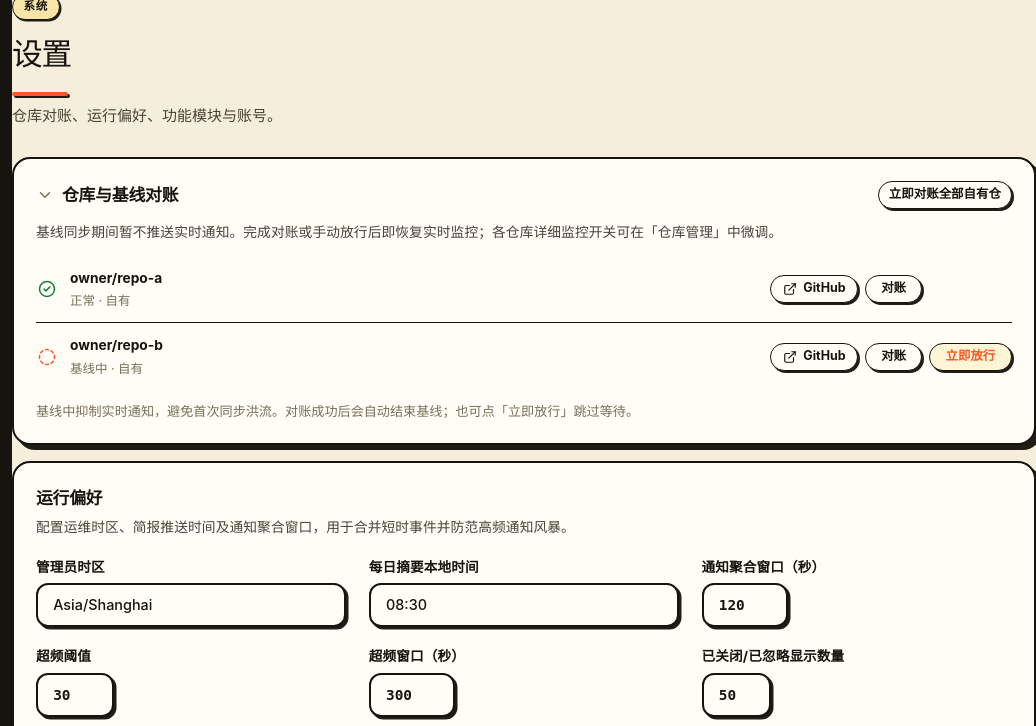
Test: 设置页 › 时区输入失焦时即时校验：非法值提示、合法值静默
非法时区：失焦后提示，保存后后端仍会强校验。
Replace the text in the field labelled "管理员时区" with "Mars/Olympus" at (191, 605), box [36,583,346,627]
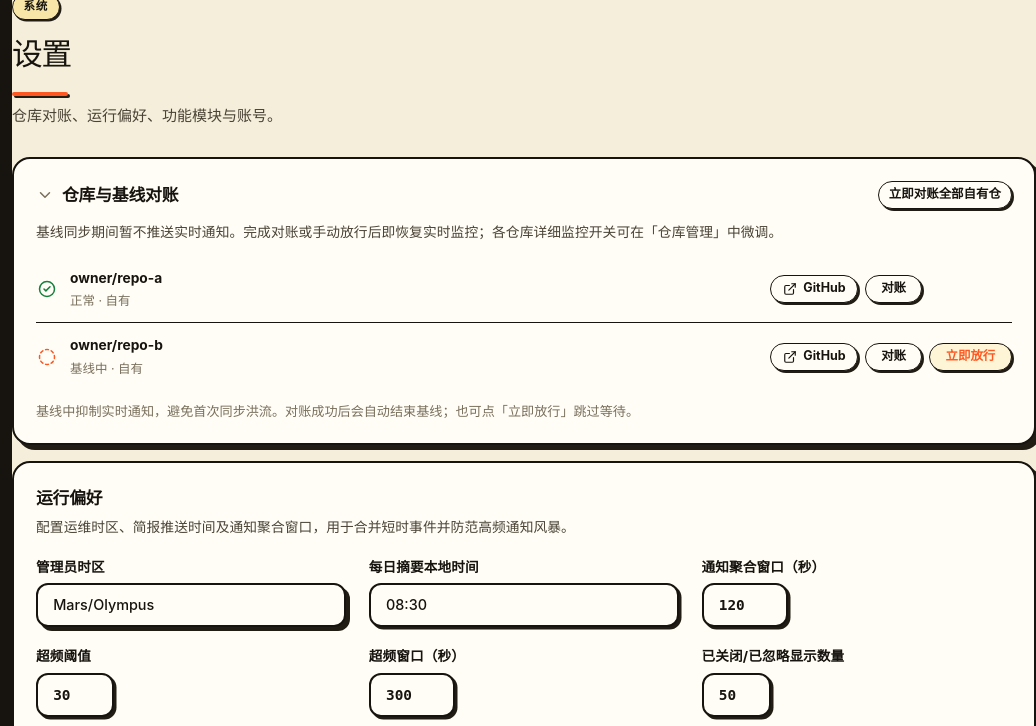
Press Tab
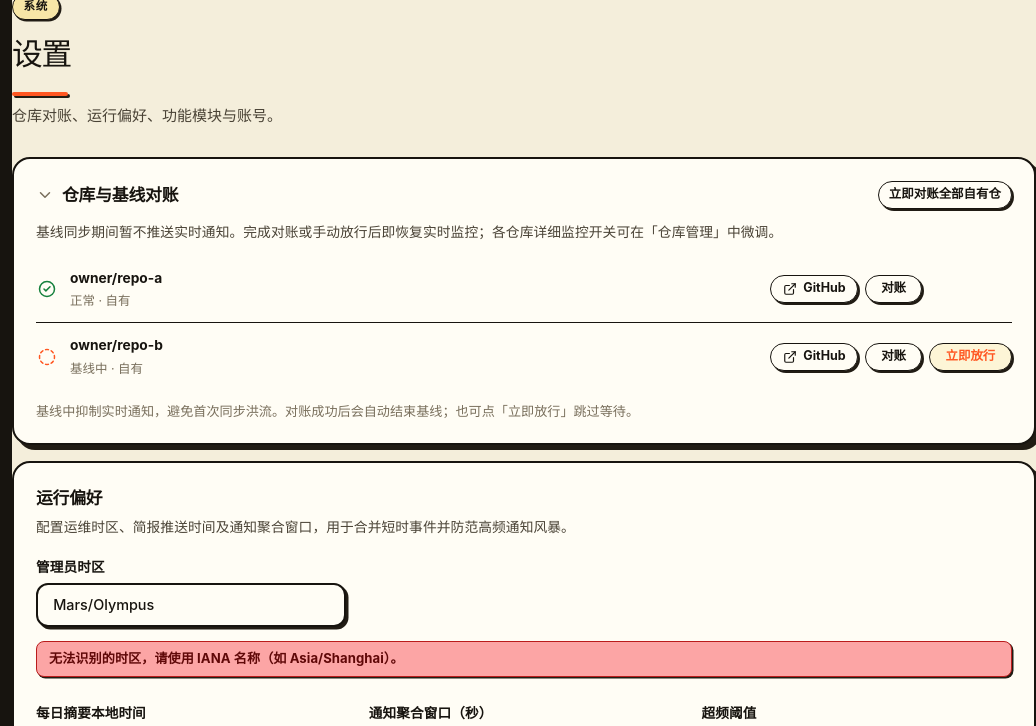
expect the text "无法识别的时区，请使用 IANA 名称（如 Asia/Shanghai）。" is shown: met, box [36,641,1012,677]
合法时区：提示消失。
Replace the text in the field labelled "管理员时区" with "Asia/Shanghai" at (191, 605), box [36,583,346,627]
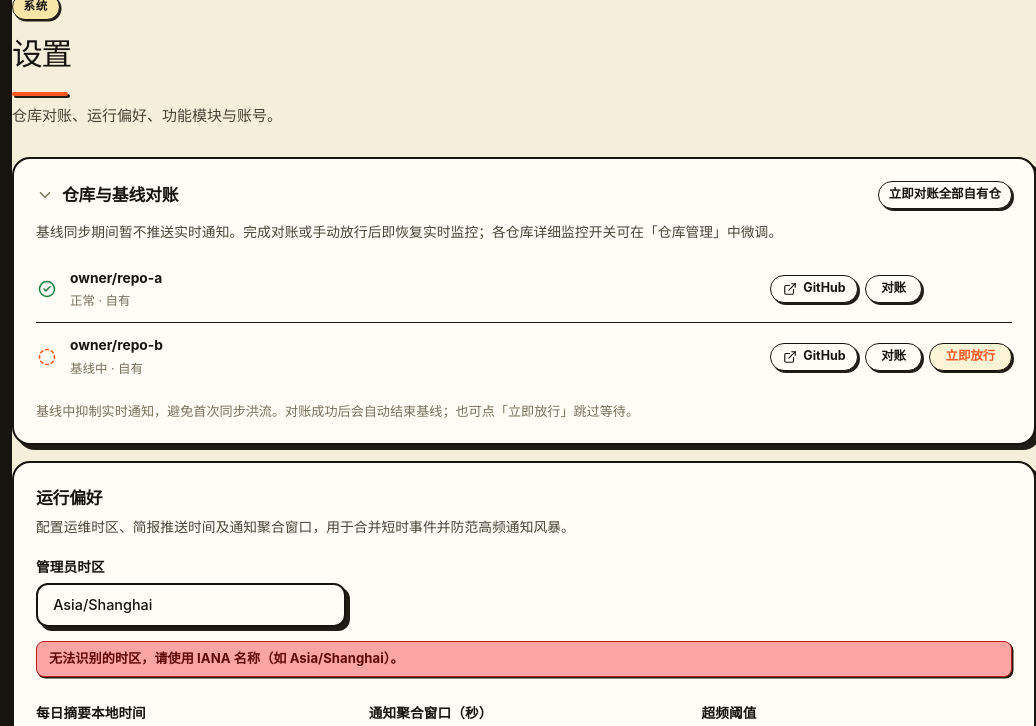
Press Tab
(page scrolled)
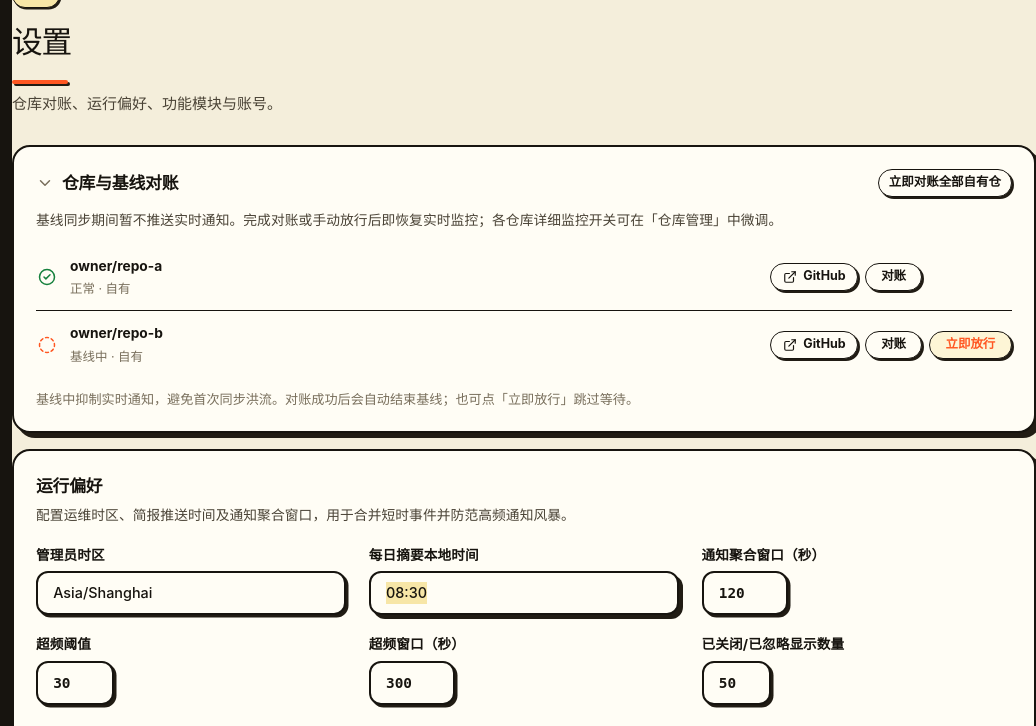
expect the text "无法识别的时区" is gone: met
